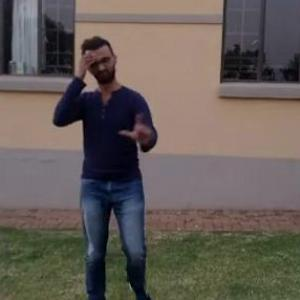land_hand: (118, 103, 156, 150)
